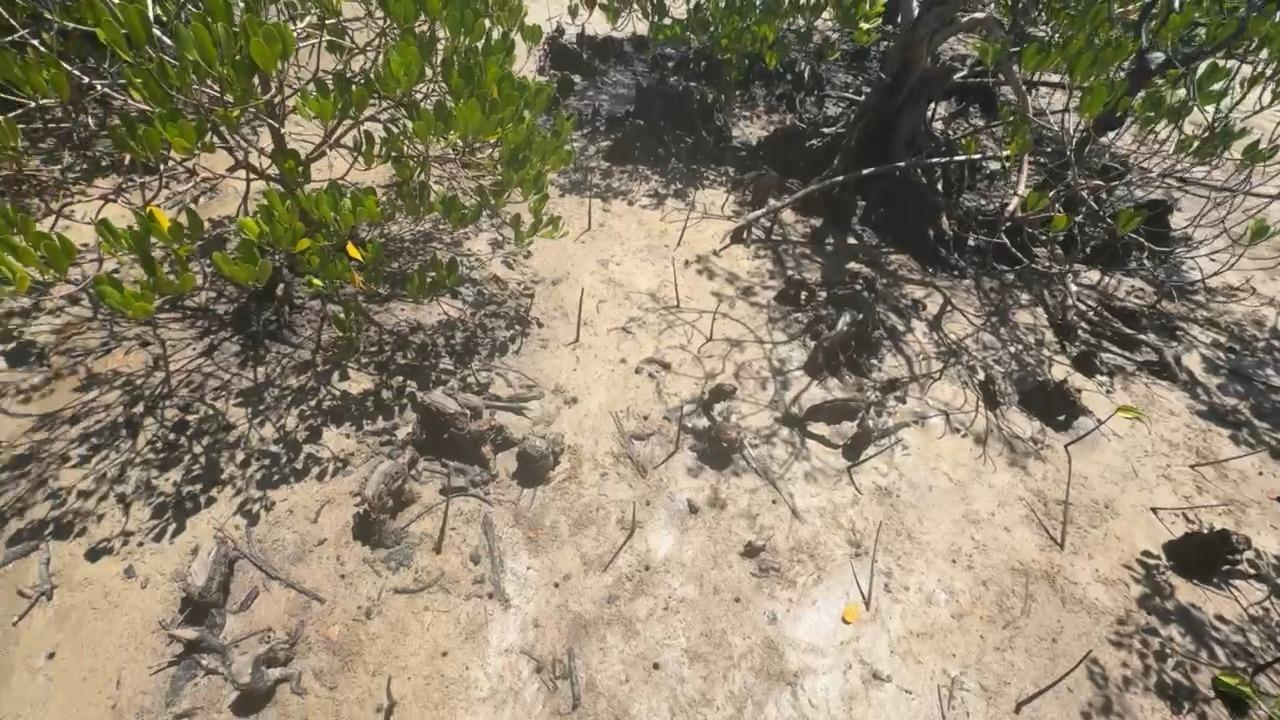Tree: (1018, 650, 1092, 706), (1065, 405, 1153, 447), (846, 438, 903, 469), (1188, 448, 1270, 467), (865, 521, 882, 609), (434, 472, 451, 554), (677, 189, 697, 247), (1061, 462, 1072, 549), (1150, 502, 1228, 512), (575, 287, 585, 341), (670, 256, 680, 306), (674, 403, 683, 452), (386, 674, 397, 706), (588, 175, 593, 229), (720, 189, 732, 211), (631, 500, 636, 533)
